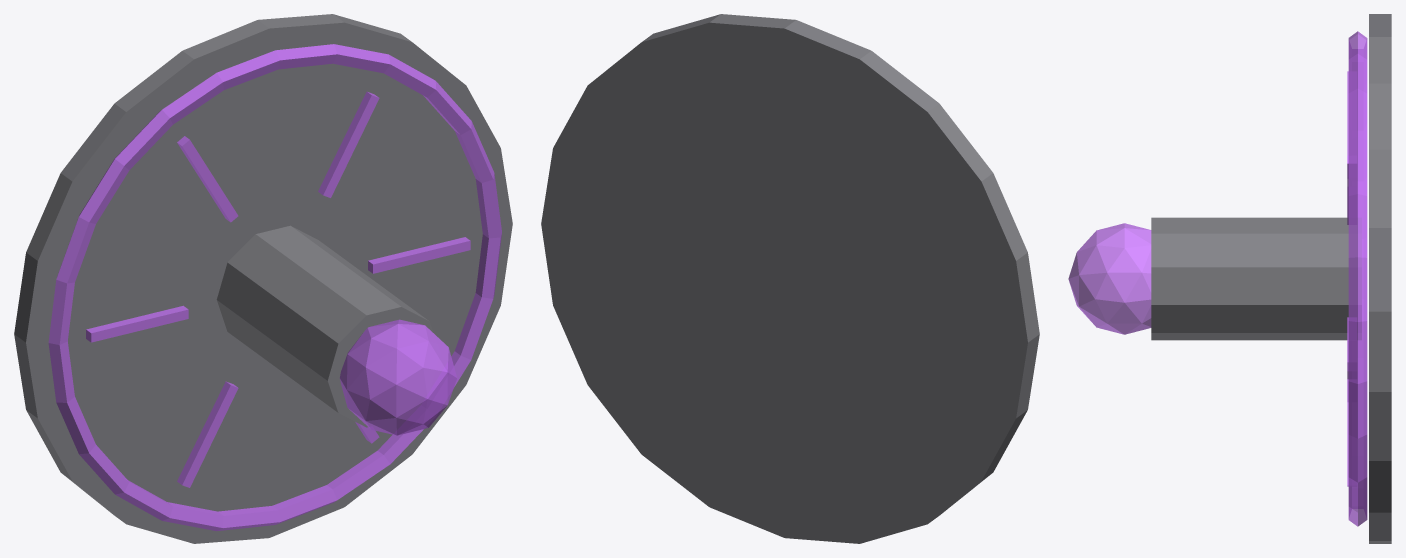
File: lich_shield_pylon.glb
3 renders of one model, left to right at view 1: azimuth 30°, elevation 25°; view 2: azimuth 150°, elevation 25°; view 3: azimuth 270°, elevation 25°, orthographic. The views are drawn at different scales.
Visible parts, largest first — view 1: arena_plate, mechanic_core, warning_ring, activation_orb, floor_rune_4, floor_rune_1, floor_rune_3, floor_rune_0, floor_rune_2; view 2: arena_plate; view 3: mechanic_core, arena_plate, warning_ring, activation_orb.
Boxes of the visible parts, box(x1,y1,x2,y2) form: arena_plate: box(14, 14, 512, 543); mechanic_core: box(216, 225, 439, 427); warning_ring: box(48, 44, 501, 531); activation_orb: box(339, 319, 457, 435); floor_rune_4: box(177, 381, 238, 487); floor_rune_1: box(318, 91, 379, 197); floor_rune_3: box(86, 305, 188, 342); floor_rune_0: box(368, 237, 470, 273); floor_rune_2: box(177, 136, 238, 222); arena_plate: box(541, 14, 1039, 543); mechanic_core: box(1151, 217, 1361, 340); arena_plate: box(1369, 14, 1391, 543); warning_ring: box(1348, 31, 1367, 526); activation_orb: box(1068, 223, 1151, 334).
Bounding box in the file's own units: 1.9 × 1.9 × 1.15.
